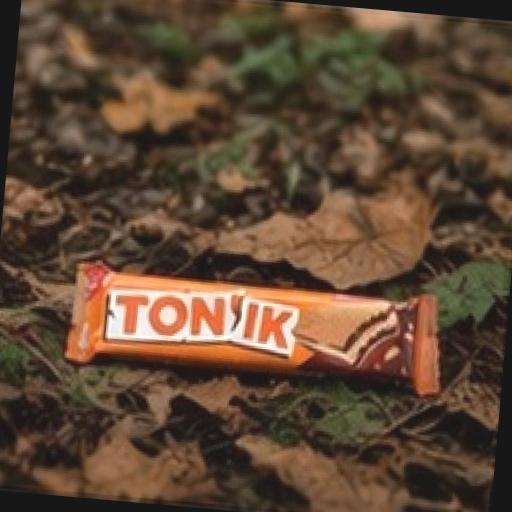tonik: (22, 170, 488, 476)
